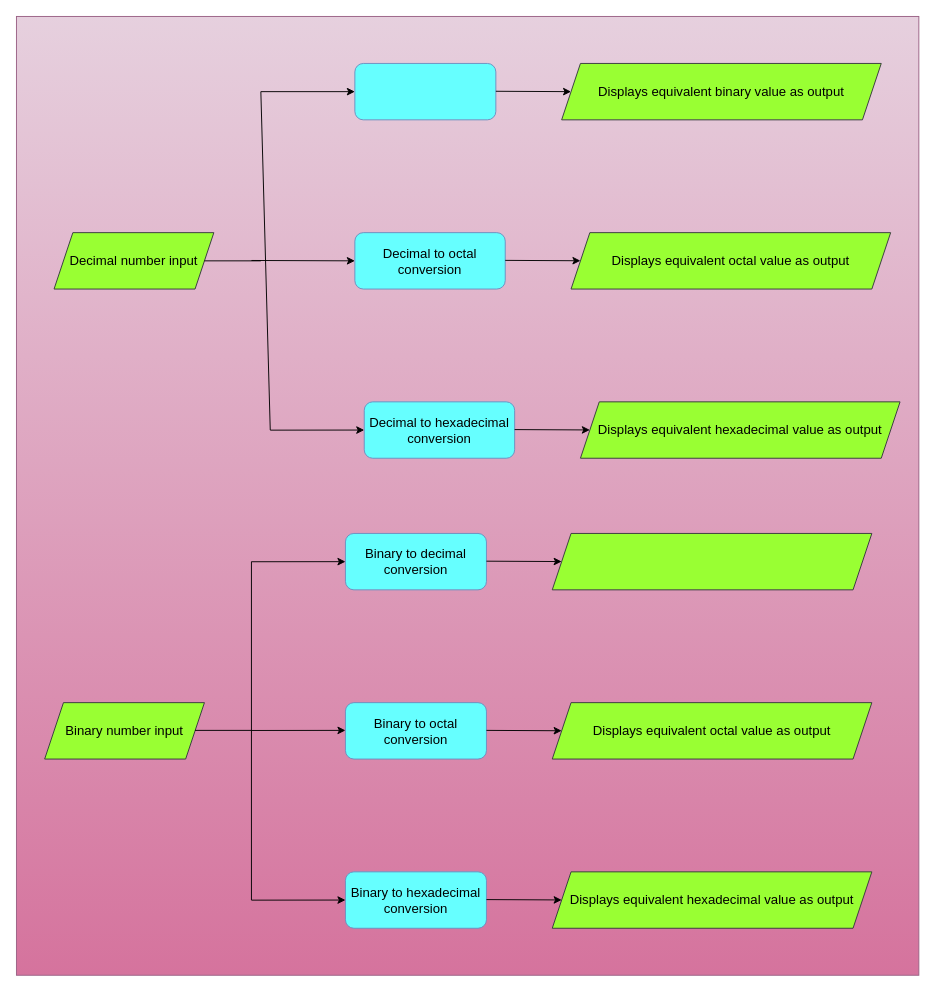
Some shapes in this 935 by 992 pixel diagram are drawn without their labels. The centre of each missing label's shape, as x and y in pixels:
Decimal to binary conversion: the point at 425,91
Displays equivalent decimal value as output: the point at 711,561
